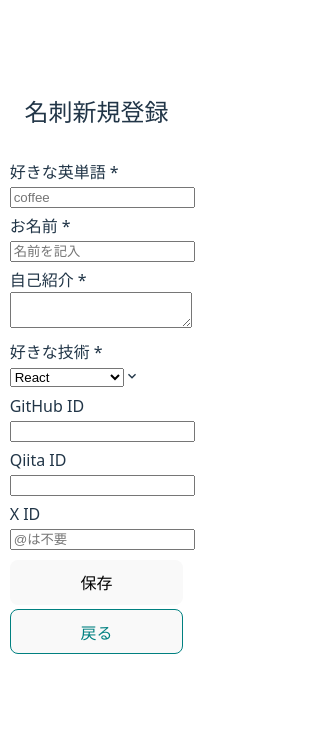
Test: 未入力のときに、必須の3項目すべてにエラーが出る
What coordinates should you click on to do the following:
click the button with test id "save_button"
I would click on:
 (97, 582)
Its box is x1=10 y1=560 x2=183 y2=605.
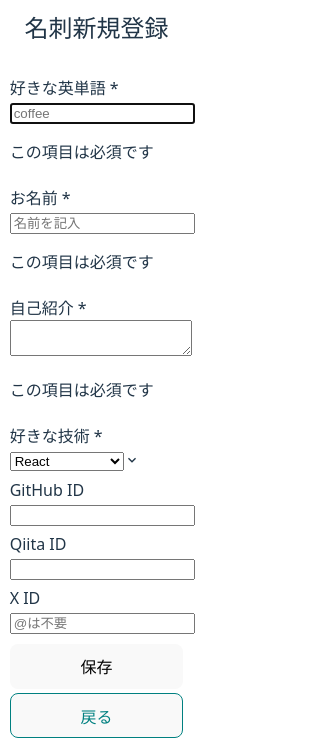
Expected: the text "この項目は必須です" is shown 3 times, x1=10 y1=141 x2=154 y2=163; x1=10 y1=251 x2=154 y2=273; x1=10 y1=379 x2=154 y2=401
